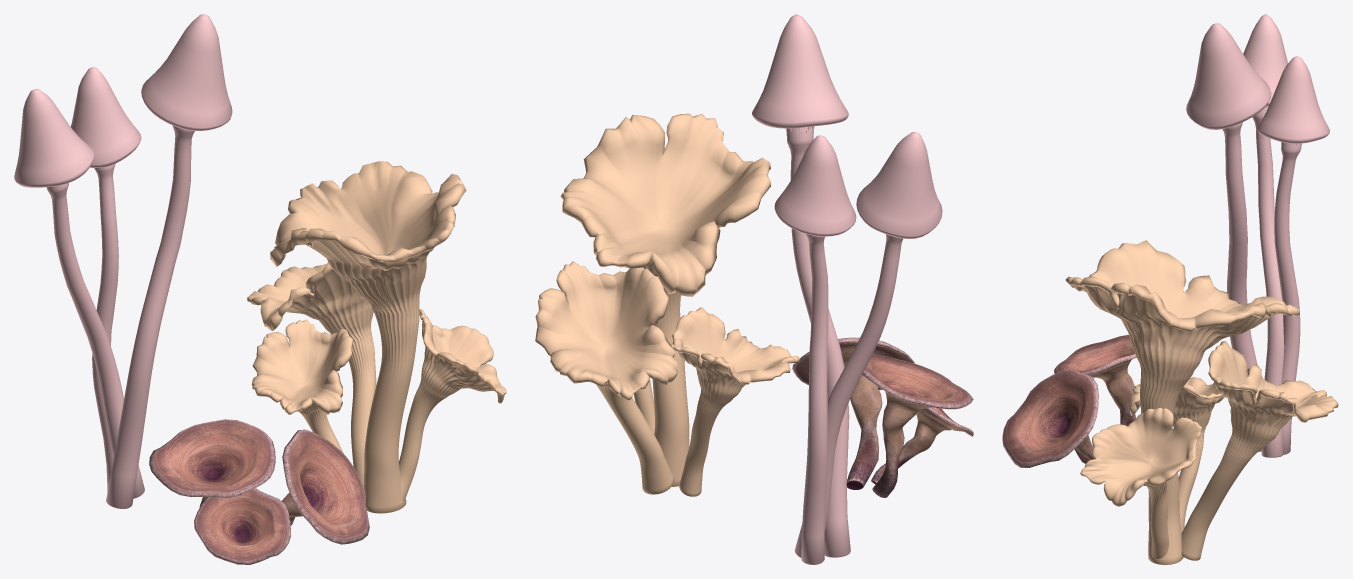
The model's file is mushroms collection.fbx.
3 views of the same model, side by side, from view 1: azimuth 30°, elevation 25°; view 2: azimuth 150°, elevation 25°; view 3: azimuth 270°, elevation 25° (orthographic). The views are drawn at different scales.
Visible parts, largest first — view 1: Cylinder.026, shroom_tall.017, shroom_tall.016, Cylinder.025, shroom_tall.018, Cylinder.024, shrom_small.009, shrom_small.010, Cylinder.023, shrom_small.011; view 2: Cylinder.026, Cylinder.025, shroom_tall.017, shroom_tall.018, shroom_tall.016, Cylinder.024, shrom_small.009, shrom_small.010, shrom_small.011, Cylinder.023; view 3: Cylinder.026, shroom_tall.017, Cylinder.025, Cylinder.023, shroom_tall.018, shrom_small.010, shroom_tall.016, shrom_small.009, Cylinder.024.
Part boxes in pixels (box(x1,y1,x2,y2)): Cylinder.026: box(270, 161, 466, 513); shroom_tall.017: box(106, 14, 232, 508); shroom_tall.016: box(14, 89, 144, 498); Cylinder.025: box(247, 262, 376, 485); shroom_tall.018: box(70, 67, 141, 491); Cylinder.024: box(252, 319, 353, 452); shrom_small.009: box(149, 419, 275, 507); shrom_small.010: box(281, 429, 369, 544); Cylinder.023: box(399, 309, 506, 501); shrom_small.011: box(194, 488, 291, 564); Cylinder.026: box(560, 113, 770, 486); Cylinder.025: box(535, 261, 677, 494); shroom_tall.017: box(752, 14, 850, 557); shroom_tall.018: box(774, 135, 856, 564); shroom_tall.016: box(794, 132, 942, 557); Cylinder.024: box(670, 307, 799, 496); shrom_small.009: box(862, 354, 973, 497); shrom_small.010: box(792, 337, 914, 489); shrom_small.011: box(871, 407, 973, 484); Cylinder.023: box(633, 376, 654, 434); Cylinder.026: box(1065, 240, 1299, 564); shroom_tall.017: box(1186, 23, 1271, 451); Cylinder.025: box(1181, 341, 1338, 560); Cylinder.023: box(1080, 408, 1201, 558); shroom_tall.018: box(1257, 56, 1329, 454); shrom_small.010: box(1002, 369, 1098, 467); shroom_tall.016: box(1243, 14, 1287, 457); shrom_small.009: box(1054, 335, 1136, 426); Cylinder.024: box(1129, 377, 1224, 532).
Size of the model in its own units: 1844 by 2153 by 1401.
